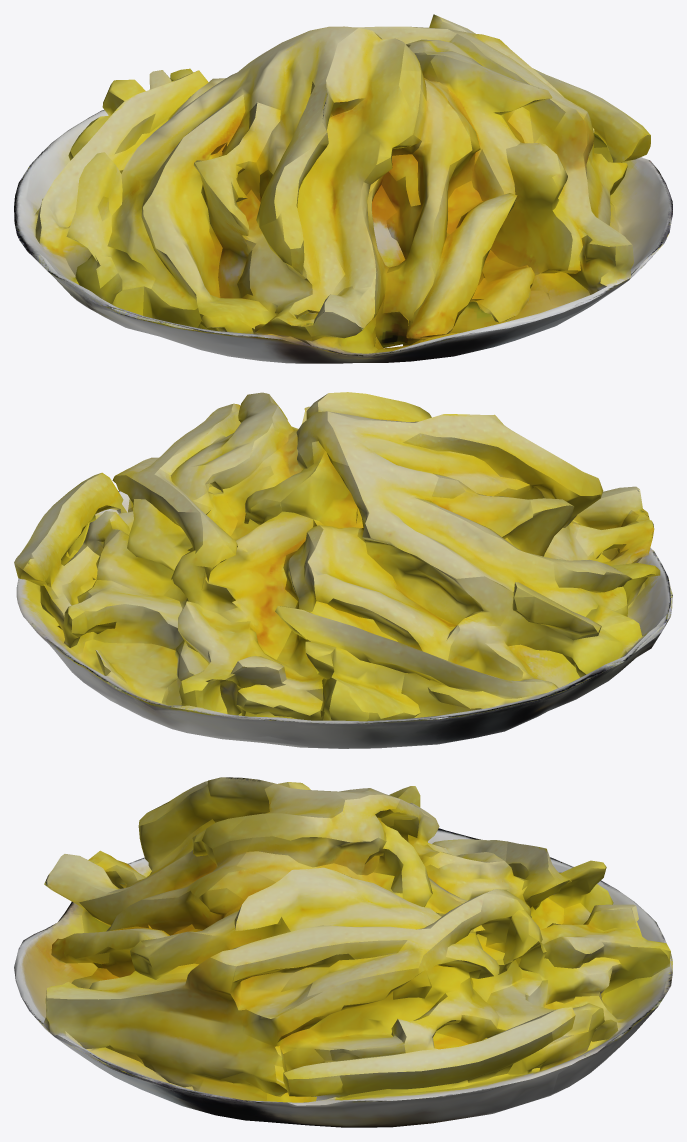
File: fries.glb
3 renders of one model, top to bottom at view 1: azimuth 30°, elevation 25°; view 2: azimuth 150°, elevation 25°; view 3: azimuth 270°, elevation 25°, orthographic.
Visible parts, largest first — view 1: world; view 2: world; view 3: world.
Boxes of the visible parts, x1,y1,x2,y2 form: world: [14, 14, 672, 363]; world: [14, 392, 672, 748]; world: [14, 777, 672, 1127].
Bounding box in the file's own units: 0.6405 × 0.2548 × 0.6381.
1 material, 1 textured.
